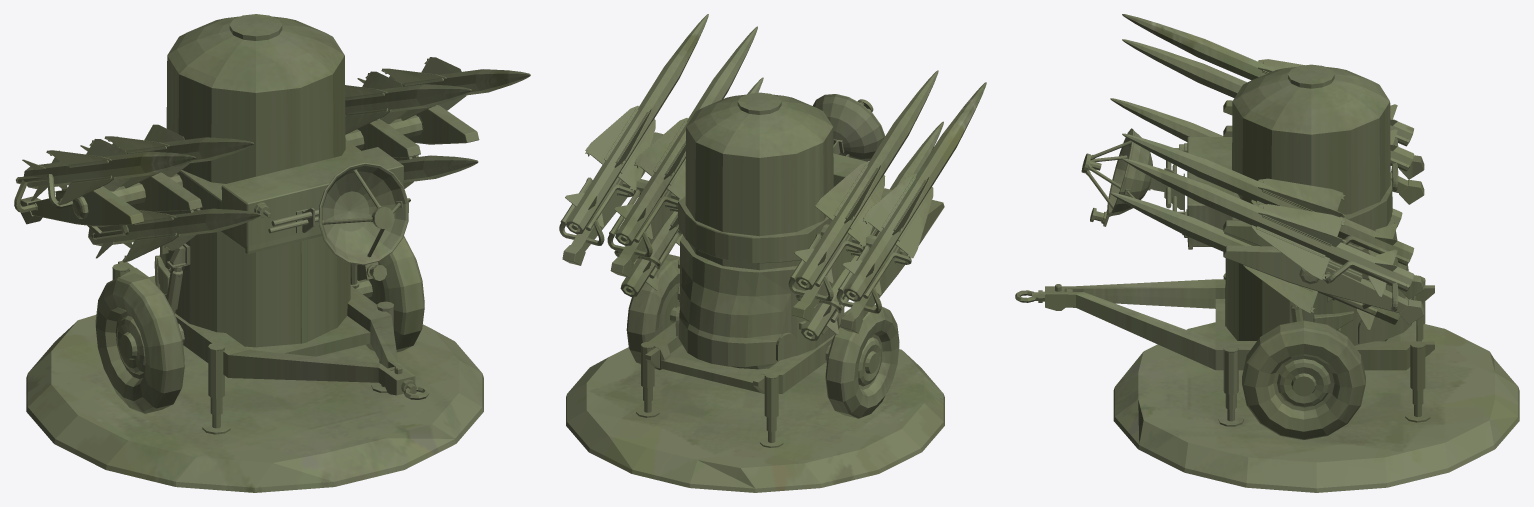
Rendered from small_launcher_rapier.glb.
3 views of the same model, side by side, from view 1: azimuth 30°, elevation 25°; view 2: azimuth 150°, elevation 25°; view 3: azimuth 270°, elevation 25° (orthographic). The views are drawn at different scales.
Visible parts, largest first — view 1: part_0, part_2, part_1; view 2: part_0, part_2, part_1; view 3: part_0, part_2, part_1.
Boxes of the visible parts, bbox=[...] form: part_0: bbox=[14, 14, 479, 434]; part_2: bbox=[26, 315, 483, 492]; part_1: bbox=[22, 57, 530, 262]; part_0: bbox=[559, 92, 944, 447]; part_2: bbox=[566, 347, 944, 492]; part_1: bbox=[565, 14, 986, 340]; part_0: bbox=[1015, 64, 1434, 439]; part_2: bbox=[1113, 322, 1519, 492]; part_1: bbox=[1110, 14, 1414, 330].
Bounding box in the file's own units: 0.8175 × 0.7245 × 1.
1 material, 1 textured.
